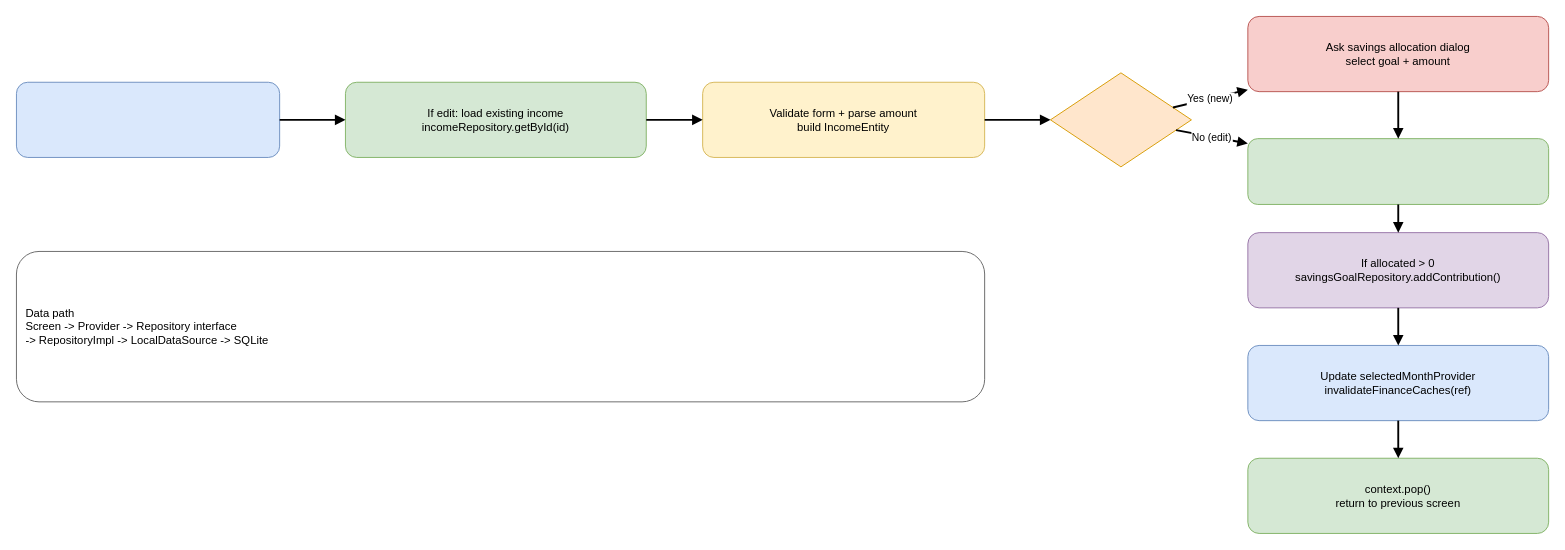
Some shapes in this 1565 by 550 pixel diagram are drawn without their labels. The centre of each missing label's shape, as x and y in pixels:
incomeRepository.upsert(income): (x=1398, y=171)
New income?: (x=1120, y=119)
Open AddEditIncomeScreen (incomeId?): (x=148, y=119)
